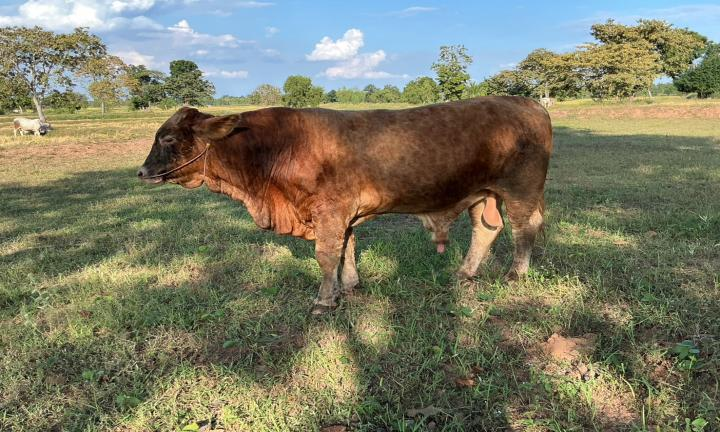Charolais: (137, 96, 552, 313)
